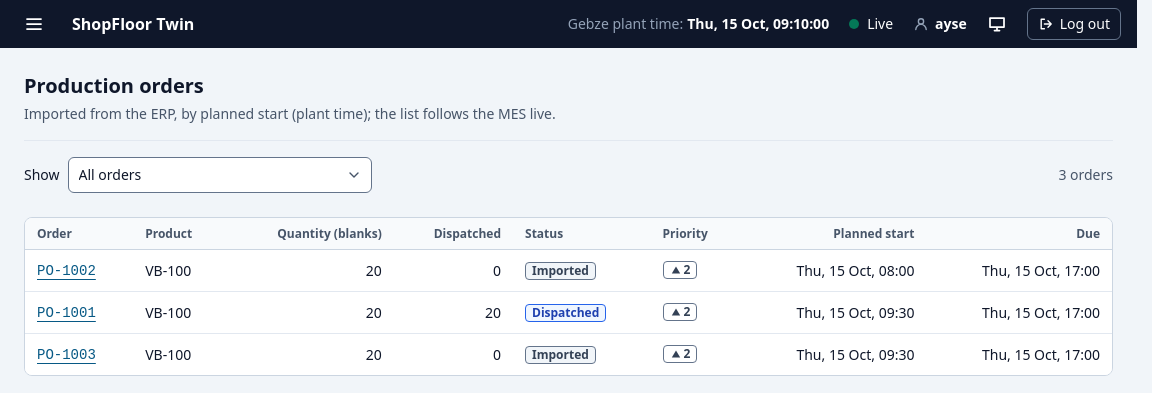
Test: orders list › lists the orders, filters by status and follows pushes
Expected: the row with test id "order-row-PO-1001" is shown, 25,292 -> 1112,334
Expected: the row with test id "order-row-PO-1003" is shown, 25,334 -> 1112,375
Note: The filter goes to the MES and applies to pushed orders as well.
Step 1. Select "Imported" in the dropdown with test id "order-filter" → [220, 175], box 68,157 -> 372,193
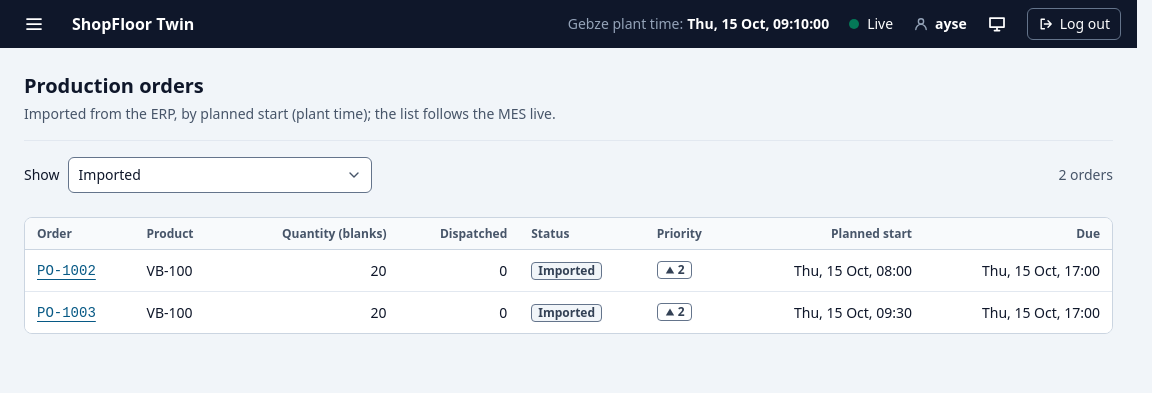
Expected: the row with test id "order-row-PO-1003" is shown, 25,292 -> 1112,333
Expected: the row with test id "order-row-PO-1001" is gone
